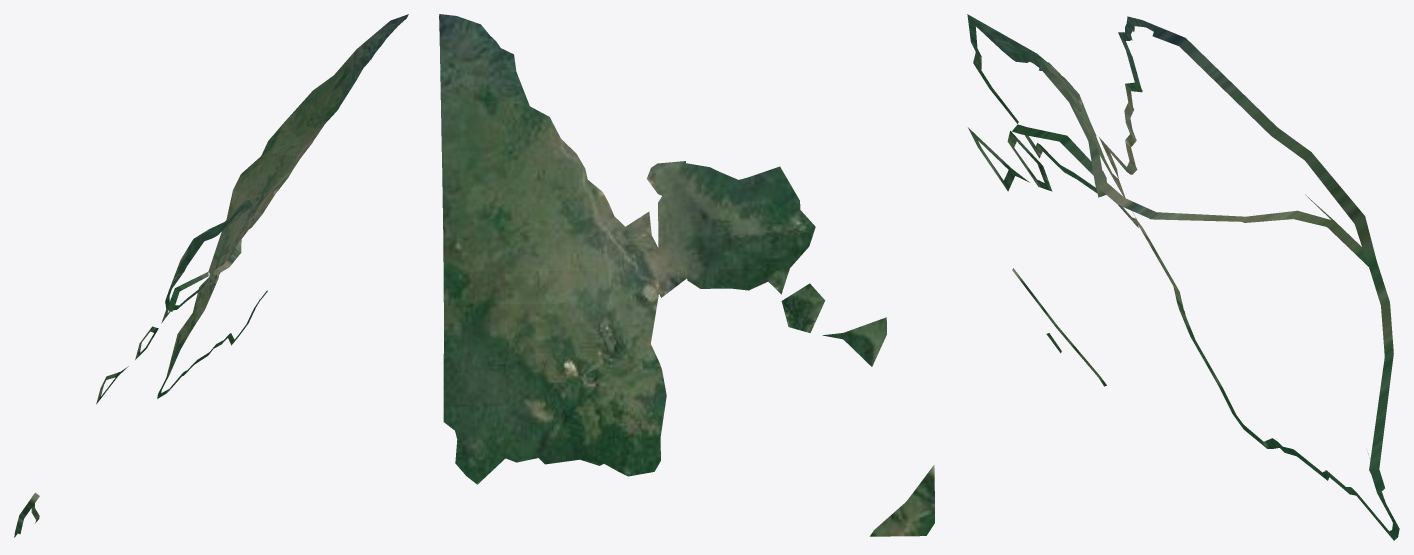
The picture shows the model from 3 angles, left to right: view 1: azimuth 30°, elevation 25°; view 2: azimuth 150°, elevation 25°; view 3: azimuth 270°, elevation 25°; orthographic projection. The views are drawn at different scales.
Bounding box in the file's own units: 2413 × 2179 × 1258.
Materials: 1 (1 with a texture image).
